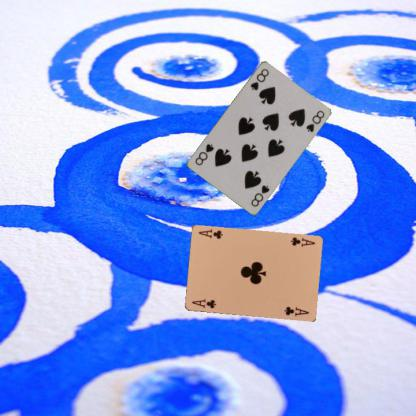8s: (248, 182, 271, 209), (248, 66, 270, 91)
Ac: (189, 296, 217, 310), (288, 234, 316, 248)
